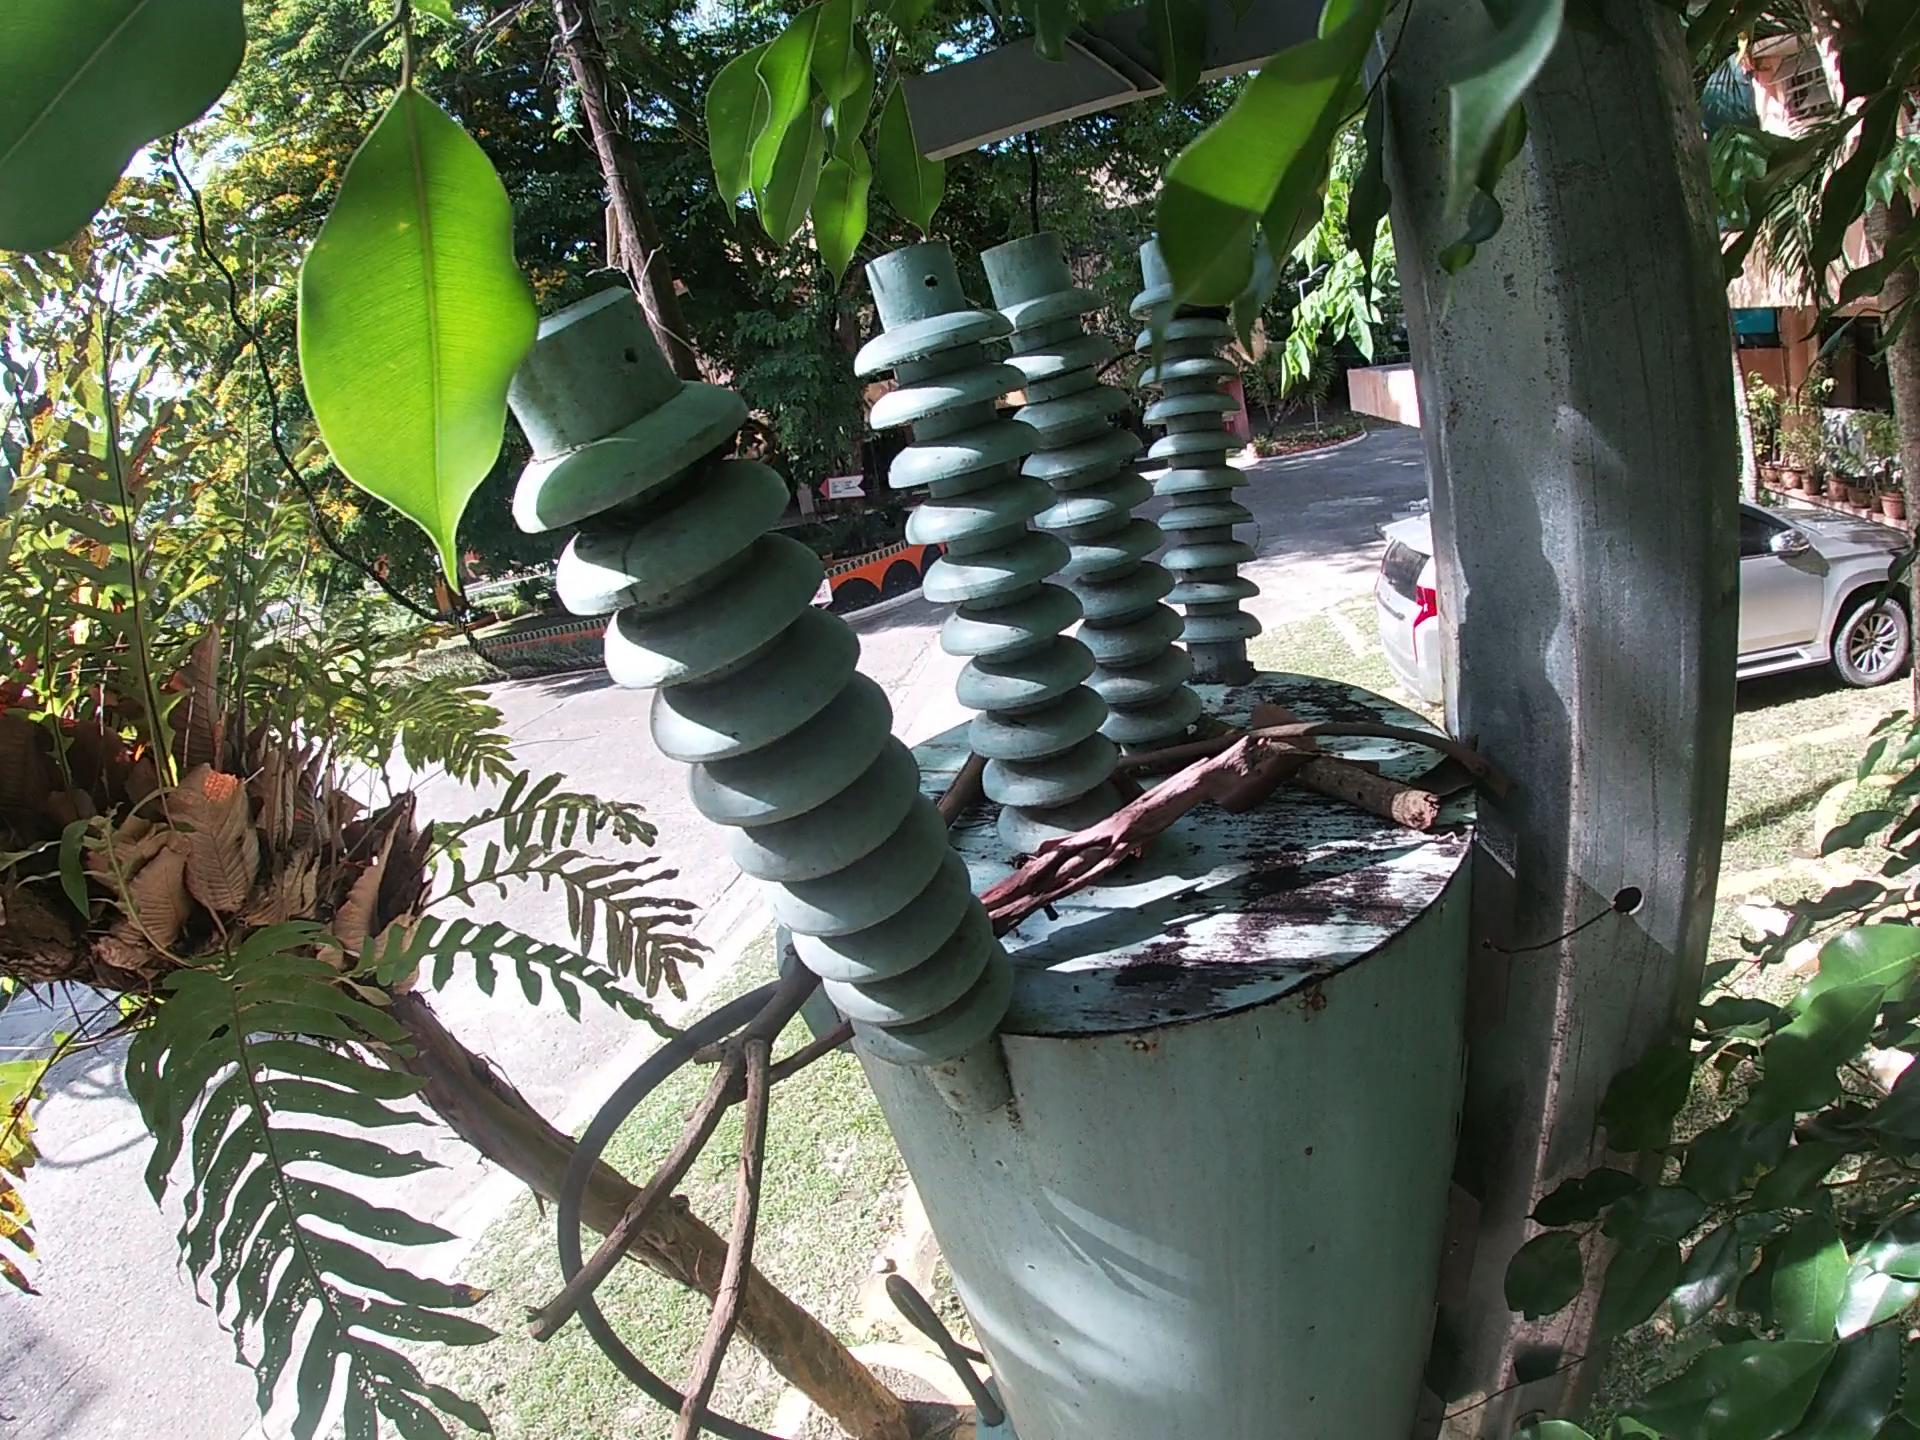leaf: (1235, 743, 1309, 796), (1258, 703, 1332, 750)
tree branch: (490, 964, 856, 1437), (977, 732, 1279, 930), (1197, 722, 1482, 843), (1134, 722, 1482, 771), (927, 737, 989, 821)
